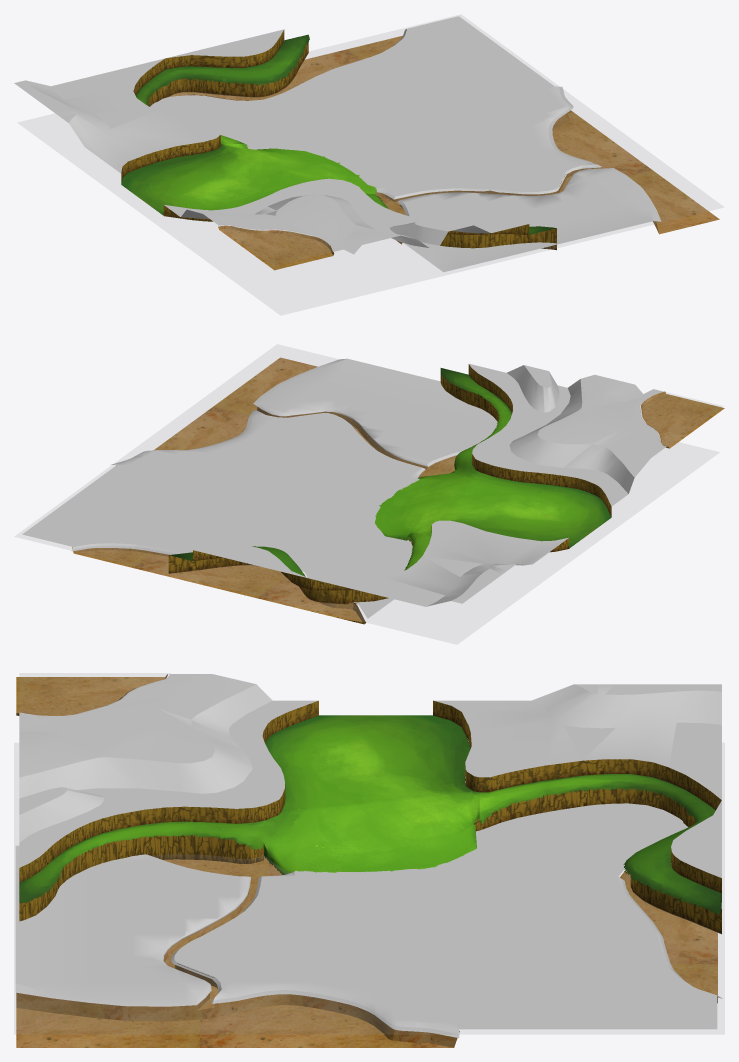
The model's file is Terrain Model Latest_1.FBX.
3 renders of one model, top to bottom at view 1: azimuth 30°, elevation 25°; view 2: azimuth 150°, elevation 25°; view 3: azimuth 270°, elevation 25°, orthographic. The views are drawn at different scales.
Visible parts, largest first — view 1: MiscAtlas2, Water, SoilAtlas, MiscAtlas1; view 2: MiscAtlas2, Water, SoilAtlas, MiscAtlas1; view 3: MiscAtlas2, SoilAtlas, MiscAtlas1, Water.
Boxes of the visible parts, x1,y1,x2,y2 form: MiscAtlas2: (14, 16, 661, 272); Water: (18, 15, 722, 314); SoilAtlas: (121, 35, 719, 270); MiscAtlas1: (121, 34, 556, 234); MiscAtlas2: (22, 358, 666, 618); Water: (15, 344, 722, 643); SoilAtlas: (72, 357, 724, 624); MiscAtlas1: (169, 368, 611, 576); MiscAtlas2: (15, 674, 722, 1037); SoilAtlas: (16, 674, 721, 1047); MiscAtlas1: (19, 715, 721, 914); Water: (14, 673, 724, 1033).
Size of the model in its own units: 966 by 124 by 975.
